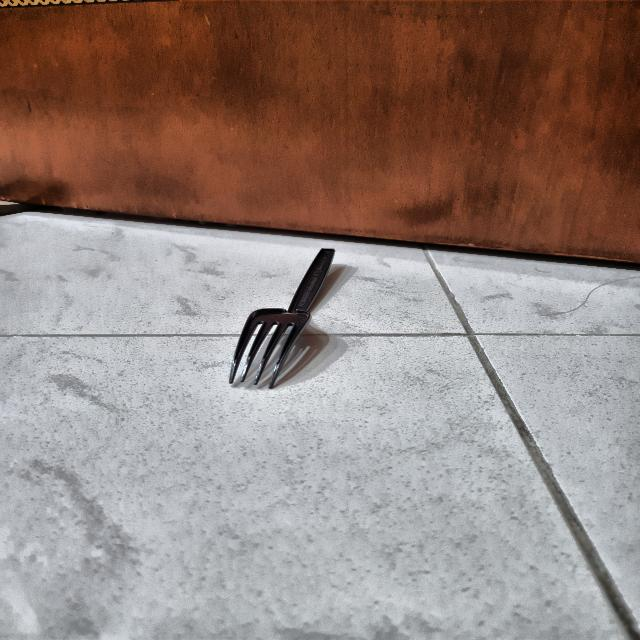plastic utensil: (220, 242, 346, 391)
